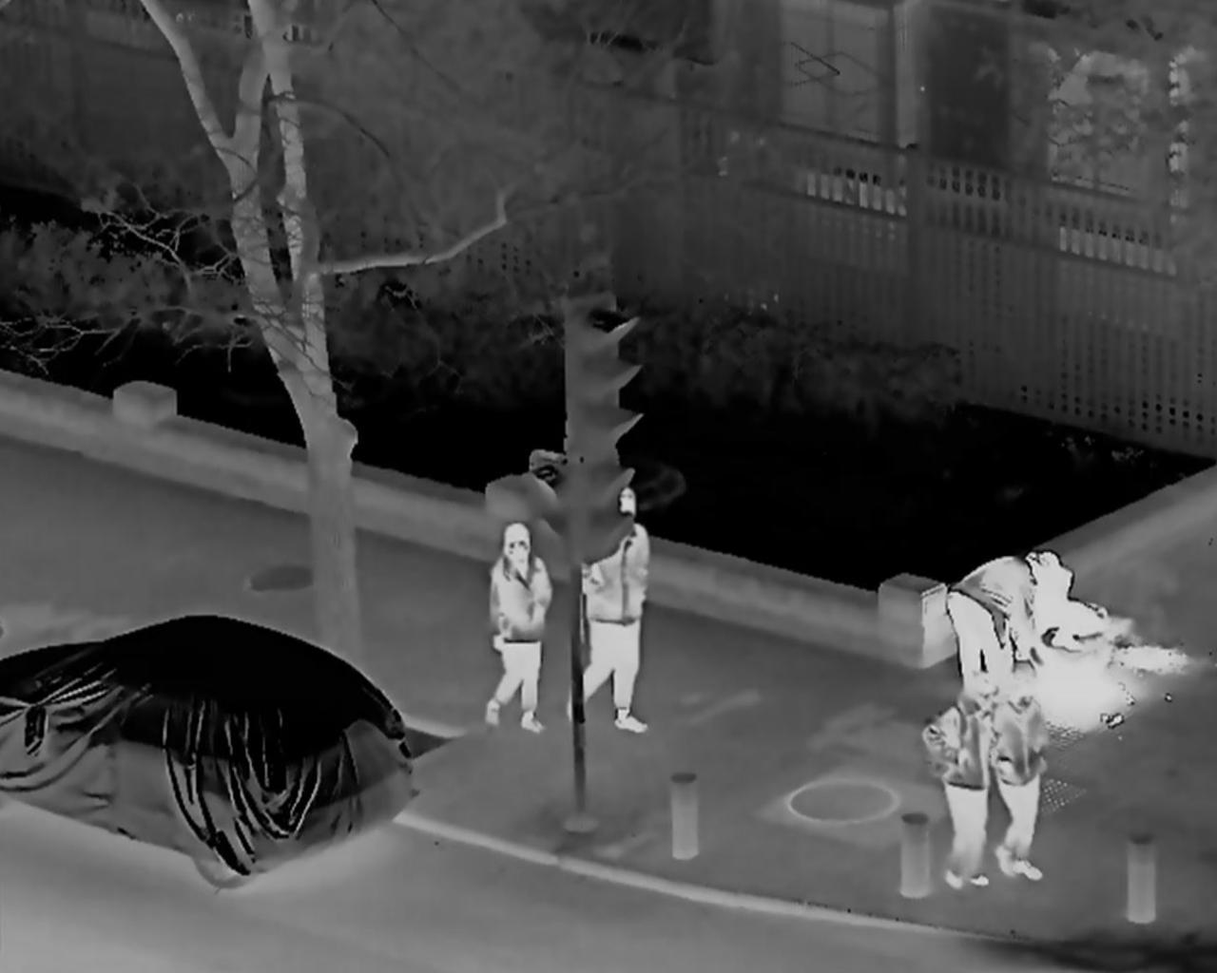person: (566, 490, 653, 735), (918, 676, 995, 895), (944, 550, 1047, 697), (482, 526, 551, 731), (991, 673, 1044, 885), (1004, 556, 1105, 663)
